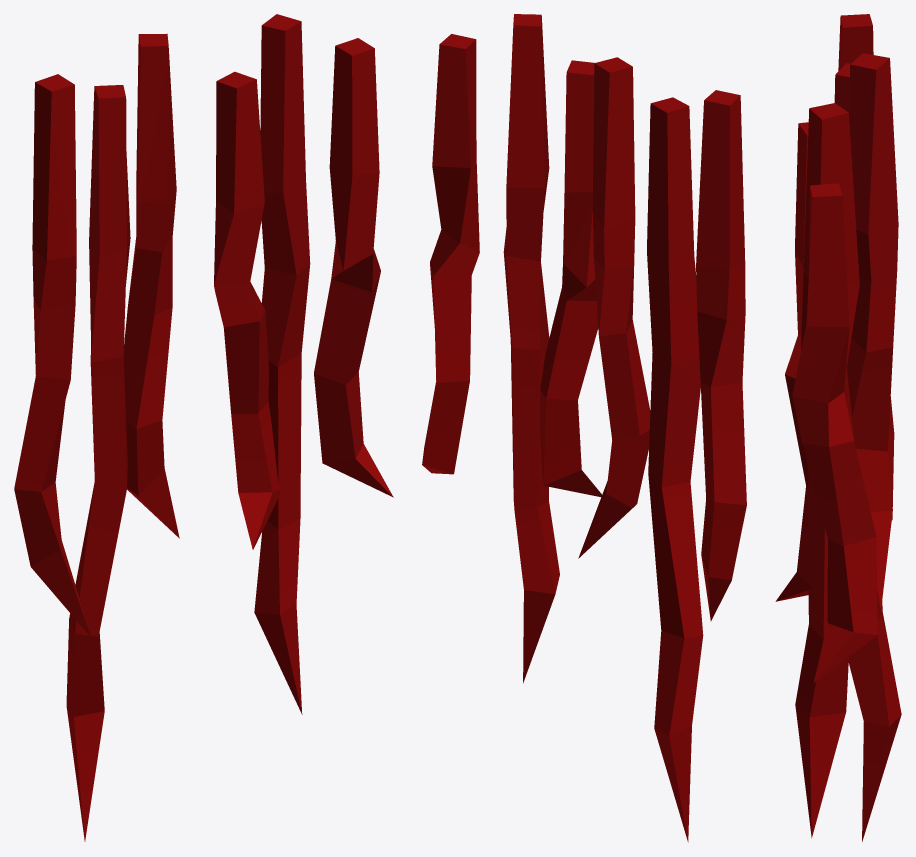
Rendered from SM_Gen_Env_Vines_03.glb.
The picture shows the model from 3 angles, left to right: view 1: azimuth 30°, elevation 25°; view 2: azimuth 150°, elevation 25°; view 3: azimuth 270°, elevation 25°; orthographic projection. The views are drawn at different scales.
Visible parts, largest first — view 1: SM_Gen_Env_Vines_032; view 2: SM_Gen_Env_Vines_032; view 3: SM_Gen_Env_Vines_032.
Part boxes in pixels (x1=…): SM_Gen_Env_Vines_032: x1=14, y1=14, x2=393, y2=841; SM_Gen_Env_Vines_032: x1=422, y1=14, x2=746, y2=842; SM_Gen_Env_Vines_032: x1=775, y1=14, x2=901, y2=841.
Bounding box in the file's own units: 0.8888 × 1.91 × 0.2645.
